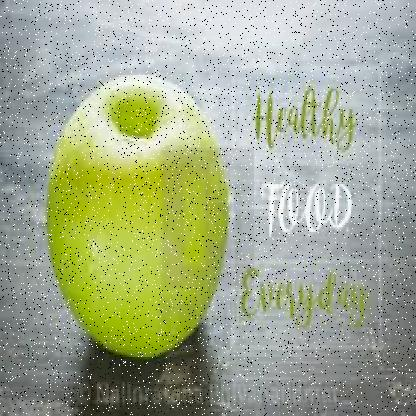apple: (52, 84, 220, 354)
